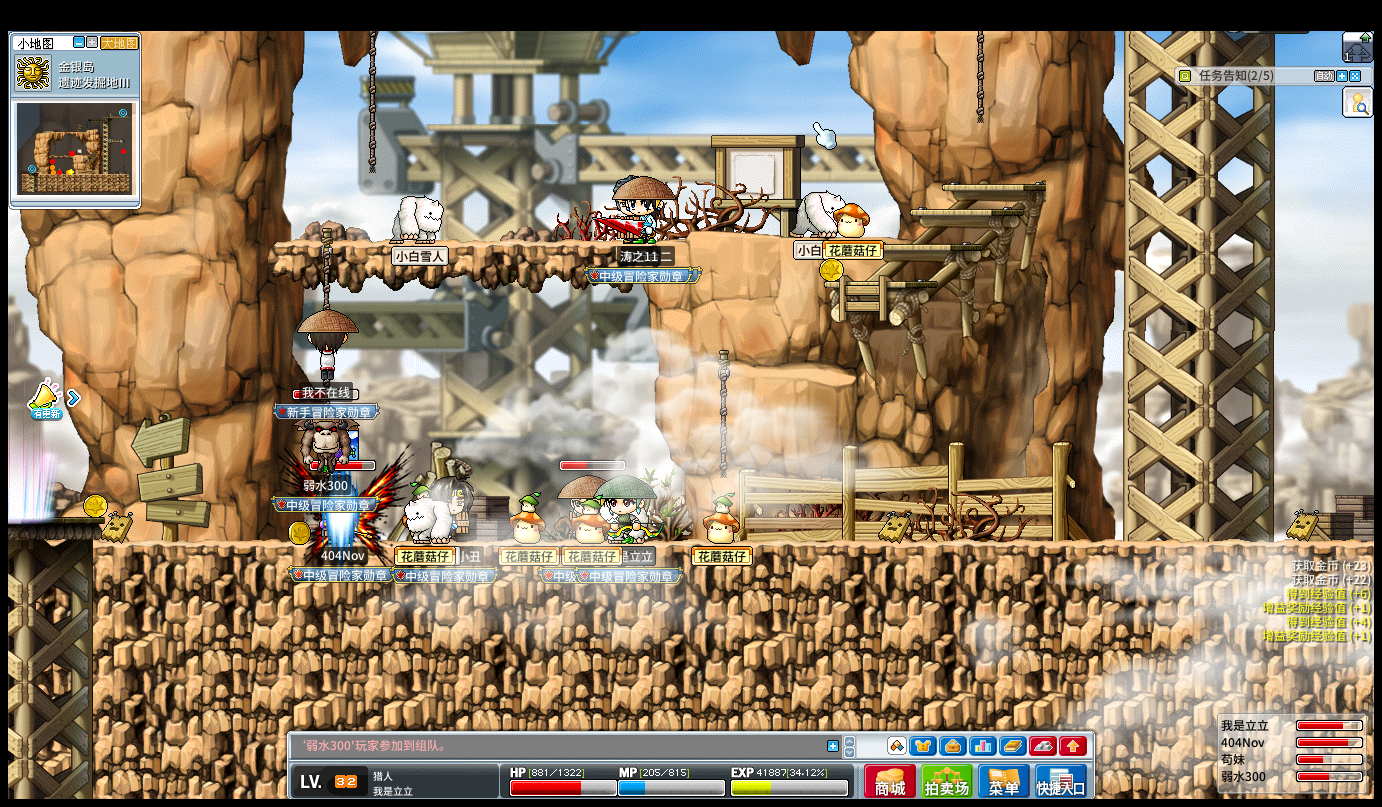floor: (267, 238, 649, 248), (749, 364, 857, 384), (819, 279, 931, 291), (755, 233, 909, 241), (819, 279, 933, 288), (8, 515, 102, 524), (905, 207, 1018, 214), (875, 243, 982, 250), (942, 184, 1046, 191)
rope: (716, 351, 728, 482), (366, 30, 375, 174), (319, 227, 330, 310), (975, 29, 984, 119)
